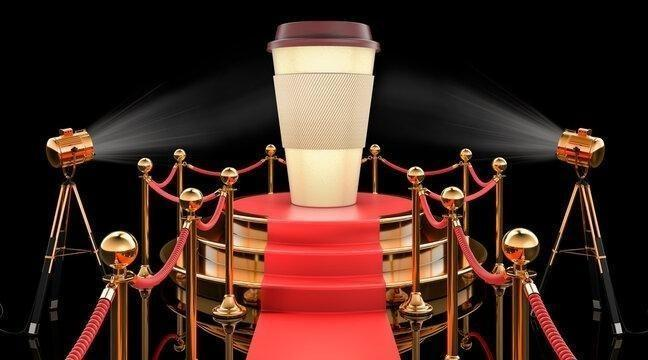cup-disposable: (266, 16, 381, 210)
